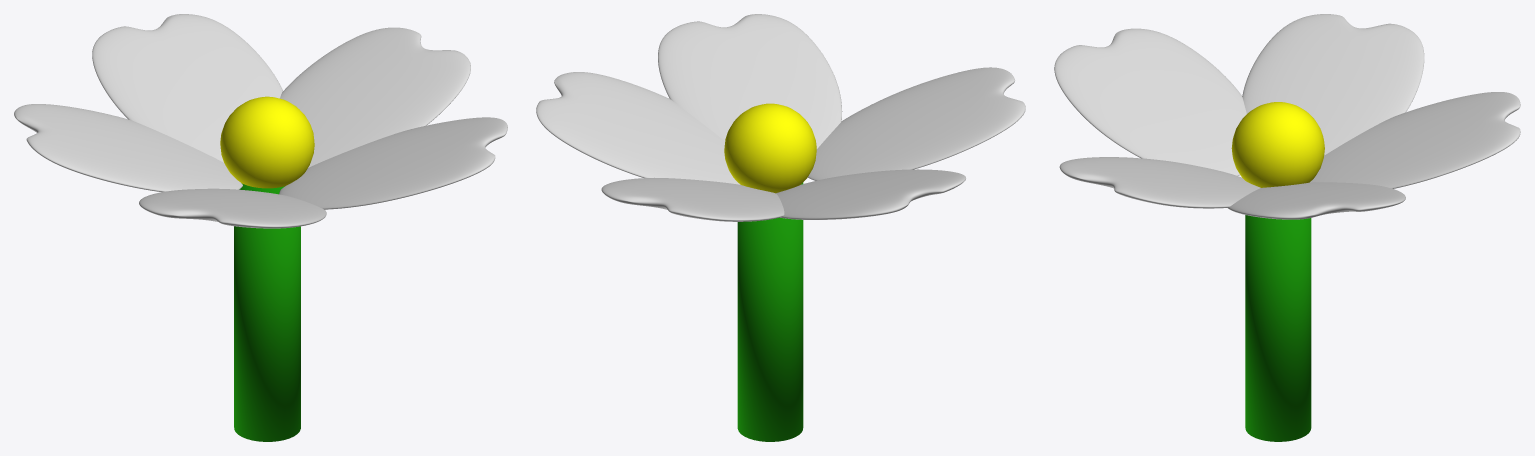
Rendered from WhiteFlower.fbx.
3 views of the same model, side by side, from view 1: azimuth 30°, elevation 25°; view 2: azimuth 150°, elevation 25°; view 3: azimuth 270°, elevation 25° (orthographic). The views are drawn at different scales.
Parts seen in each view (by area): view 1: WhiteFlower; view 2: WhiteFlower; view 3: WhiteFlower.
Part boxes in pixels (x1,y1,x2,y2): WhiteFlower: (14,14,507,441); WhiteFlower: (536,14,1025,441); WhiteFlower: (1054,14,1520,441).
Bounding box in the file's own units: 46.73 × 34.7 × 45.56.
